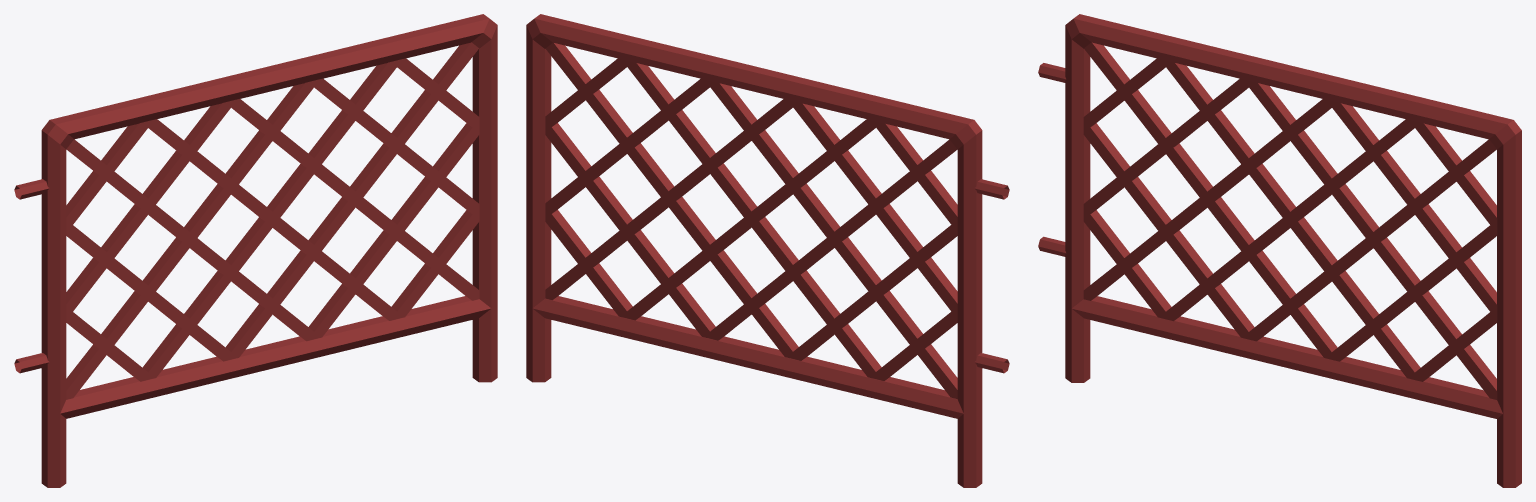
File: Fence_Small.fbx
3 renders of one model, left to right at view 1: azimuth 30°, elevation 25°; view 2: azimuth 150°, elevation 25°; view 3: azimuth 330°, elevation 25°, orthographic.
Parts seen in each view (by area): view 1: Fence_Small; view 2: Fence_Small; view 3: Fence_Small.
Part boxes in pixels (x1,y1,x2,y2): Fence_Small: (14,14,497,487); Fence_Small: (526,14,1009,487); Fence_Small: (1038,14,1521,487).
Size of the model in its own units: 700 by 508 by 31.65.
